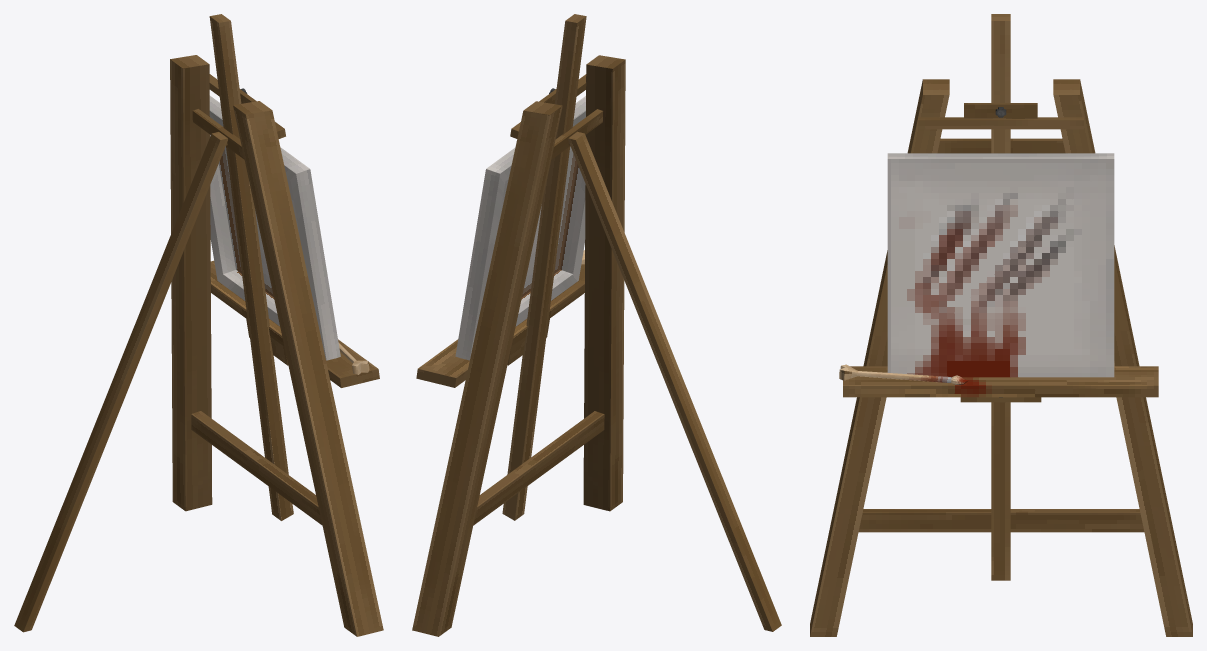
The model's file is easel.glb.
3 renders of one model, left to right at view 1: azimuth 30°, elevation 25°; view 2: azimuth 150°, elevation 25°; view 3: azimuth 270°, elevation 25°, orthographic. The views are drawn at different scales.
Parts seen in each view (by area): view 1: Object_3; view 2: Object_3; view 3: Object_3, Object_4.004.
Boxes of the visible parts, x1,y1,x2,y2 form: Object_3: (14,14,383,636); Object_3: (412,14,781,636); Object_3: (810,14,1192,636); Object_4.004: (839,364,968,384).
Size of the model in its own units: 2.42 by 4.55 by 2.71.
Materials: 1 (1 with a texture image).
